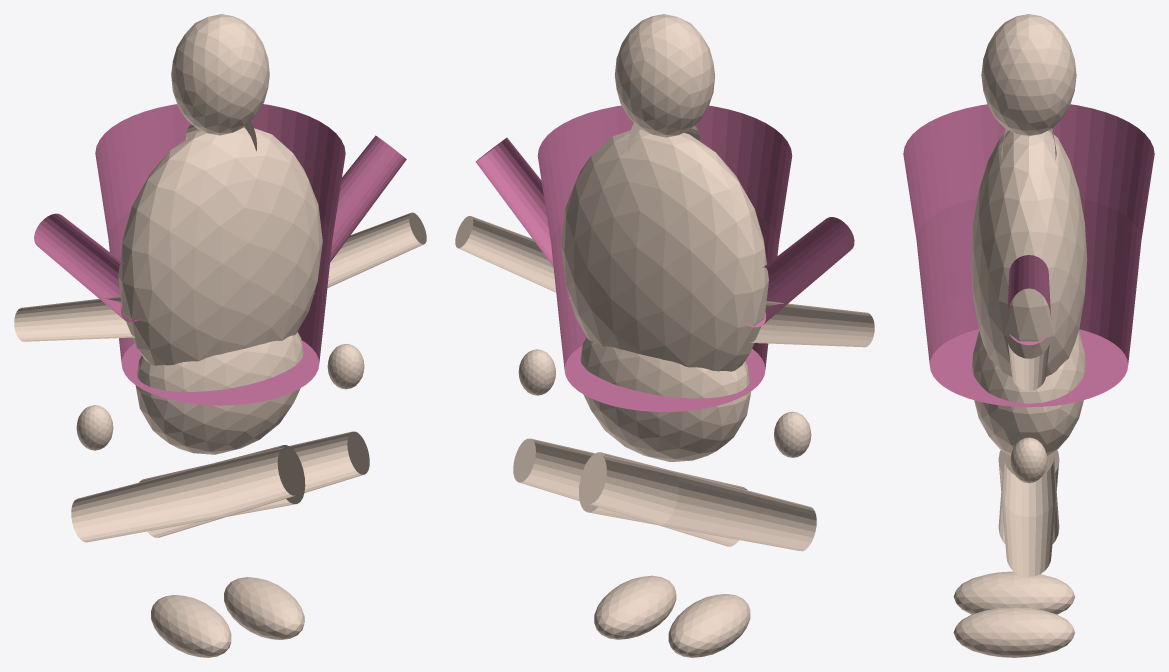
Rendered from masculino-camiseta.glb.
3 renders of one model, left to right at view 1: azimuth 30°, elevation 25°; view 2: azimuth 150°, elevation 25°; view 3: azimuth 270°, elevation 25°, orthographic.
Parts seen in each view (by area): view 1: Avatar0, Prenda, Avatar1, Avatar3, Avatar4, Avatar8, Avatar6, Avatar9, Avatar5, Avatar10, Avatar7, Avatar11; view 2: Avatar0, Prenda, Avatar1, Avatar3, Avatar4, Avatar8, Avatar6, Avatar5, Avatar9, Avatar10, Avatar7, Avatar11; view 3: Prenda, Avatar0, Avatar3, Avatar1, Avatar9, Avatar5, Avatar8, Avatar4, Avatar11, Avatar10.
Boxes of the visible parts, x1=… form: Avatar0: x1=118, y1=127, x2=322, y2=365; Prenda: x1=34, y1=104, x2=406, y2=405; Avatar1: x1=135, y1=332, x2=303, y2=454; Avatar3: x1=171, y1=14, x2=269, y2=135; Avatar4: x1=71, y1=445, x2=305, y2=542; Avatar8: x1=139, y1=431, x2=369, y2=537; Avatar6: x1=14, y1=296, x2=135, y2=341; Avatar9: x1=224, y1=577, x2=304, y2=639; Avatar5: x1=151, y1=595, x2=231, y2=657; Avatar10: x1=314, y1=212, x2=426, y2=293; Avatar7: x1=76, y1=405, x2=113, y2=450; Avatar11: x1=327, y1=343, x2=364, y2=389; Avatar0: x1=561, y1=129, x2=768, y2=371; Prenda: x1=475, y1=105, x2=854, y2=411; Avatar1: x1=580, y1=337, x2=750, y2=461; Avatar3: x1=615, y1=14, x2=714, y2=137; Avatar4: x1=579, y1=452, x2=816, y2=551; Avatar8: x1=513, y1=438, x2=747, y2=546; Avatar6: x1=750, y1=301, x2=874, y2=347; Avatar5: x1=668, y1=594, x2=750, y2=657; Avatar9: x1=594, y1=575, x2=676, y2=639; Avatar10: x1=455, y1=216, x2=569, y2=298; Avatar7: x1=774, y1=411, x2=811, y2=457; Avatar11: x1=518, y1=349, x2=555, y2=395; Prenda: x1=903, y1=104, x2=1154, y2=407; Avatar0: x1=970, y1=130, x2=1087, y2=376; Avatar3: x1=981, y1=14, x2=1076, y2=136; Avatar1: x1=972, y1=331, x2=1085, y2=455; Avatar9: x1=953, y1=607, x2=1075, y2=657; Avatar5: x1=953, y1=571, x2=1075, y2=614; Avatar8: x1=998, y1=450, x2=1059, y2=576; Avatar4: x1=998, y1=457, x2=1059, y2=544; Avatar11: x1=1010, y1=437, x2=1047, y2=483; Avatar10: x1=1008, y1=343, x2=1049, y2=390.
Bounding box in the file's own units: 1.75 × 2.58 × 0.95.
